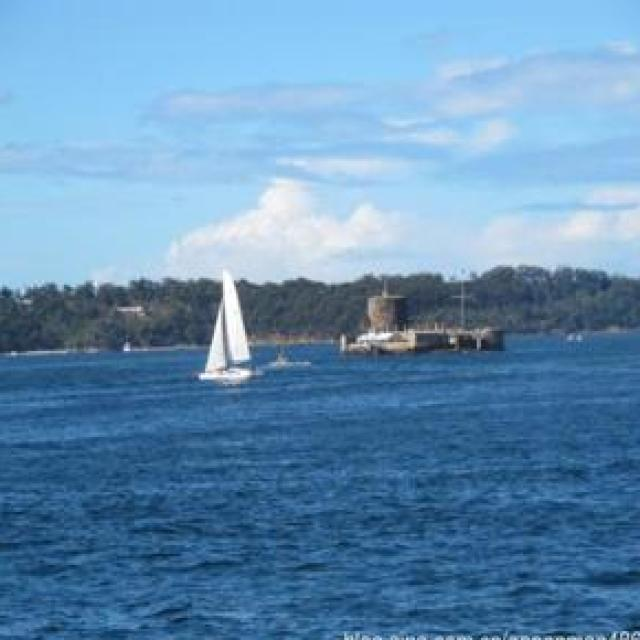sailboat: (189, 266, 254, 385)
